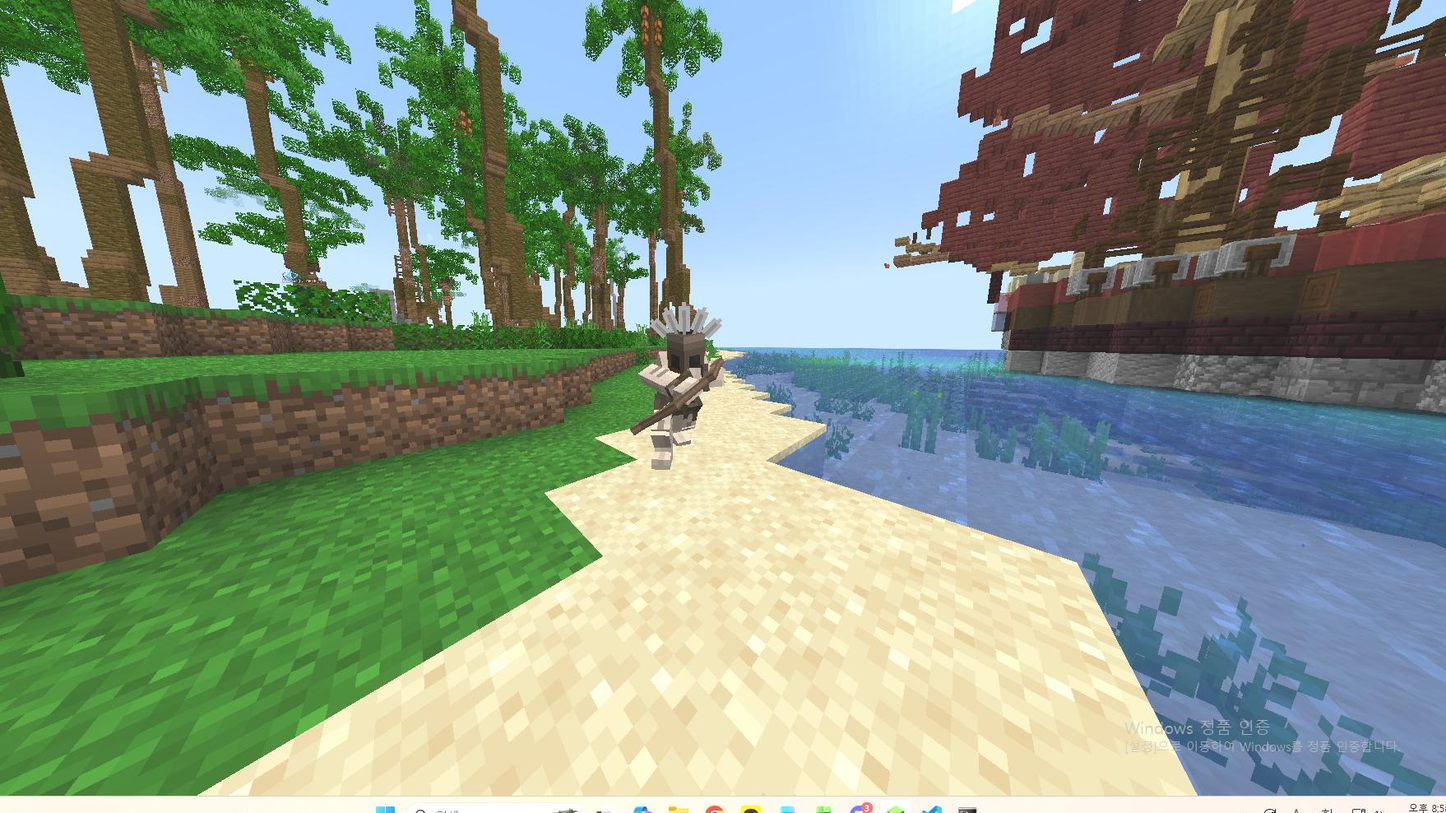bow_indian: (621, 299, 772, 506)
